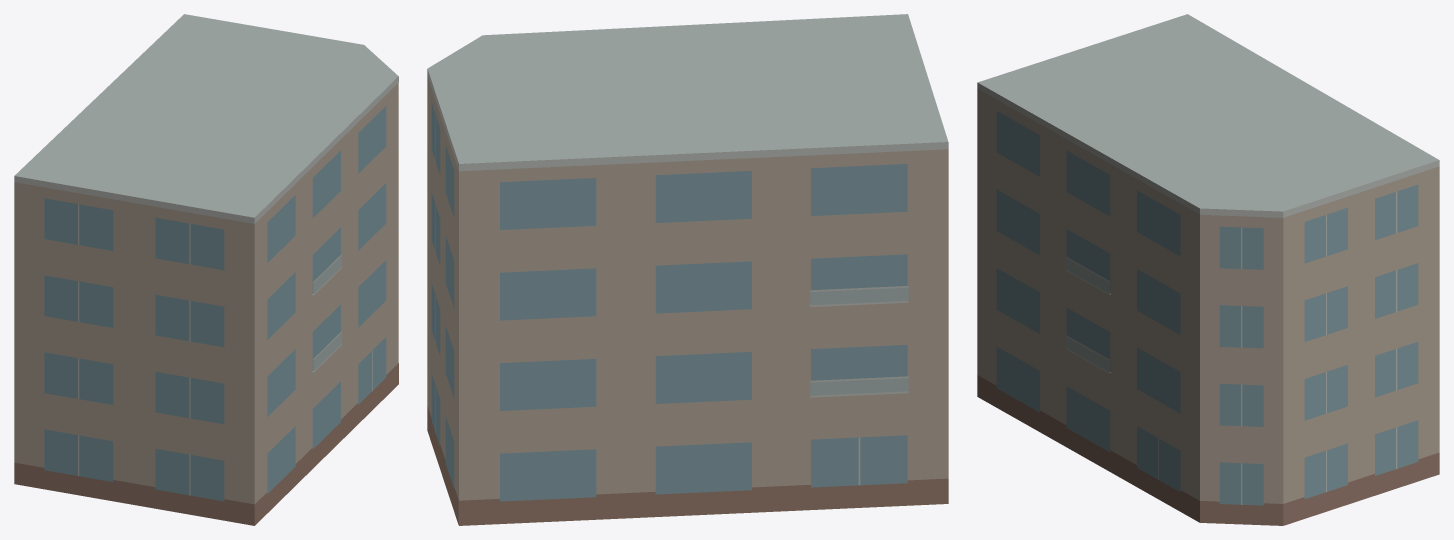
The model's file is survey-upis-32779662.glb.
3 views of the same model, side by side, from view 1: azimuth 30°, elevation 25°; view 2: azimuth 150°, elevation 25°; view 3: azimuth 270°, elevation 25° (orthographic). The views are drawn at different scales.
Visible parts, largest first — view 1: survey-upis-32779662.tmp; view 2: survey-upis-32779662.tmp; view 3: survey-upis-32779662.tmp.
Part boxes in pixels (box(x1,y1,x2,y2)): survey-upis-32779662.tmp: box(14, 14, 398, 525); survey-upis-32779662.tmp: box(427, 14, 948, 525); survey-upis-32779662.tmp: box(977, 14, 1439, 525).
Size of the model in its own units: 16.45 by 12.2 by 16.26.
